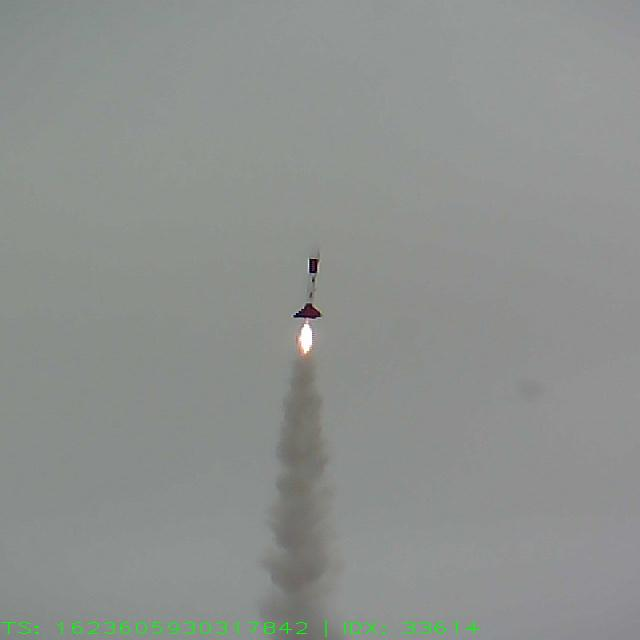Rocket: (292, 241, 323, 320)
